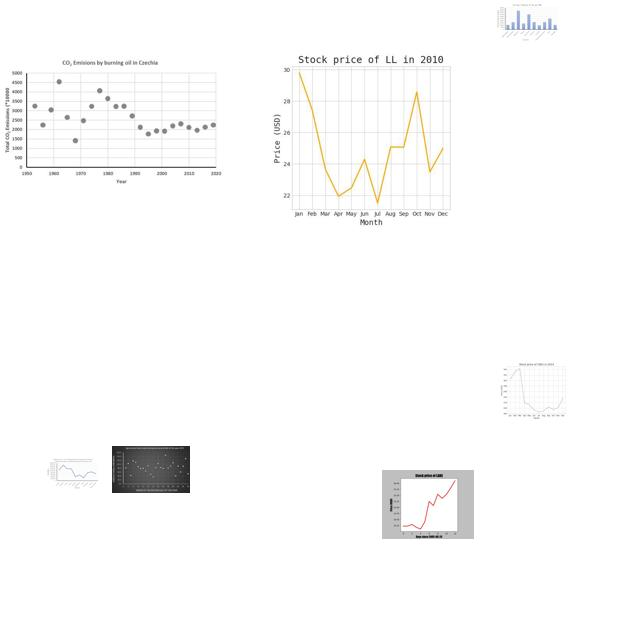Graph: (244, 44, 492, 230), (1, 59, 223, 188), (382, 470, 474, 539), (494, 359, 577, 421), (112, 446, 190, 493), (496, 3, 559, 41), (47, 458, 99, 489)
